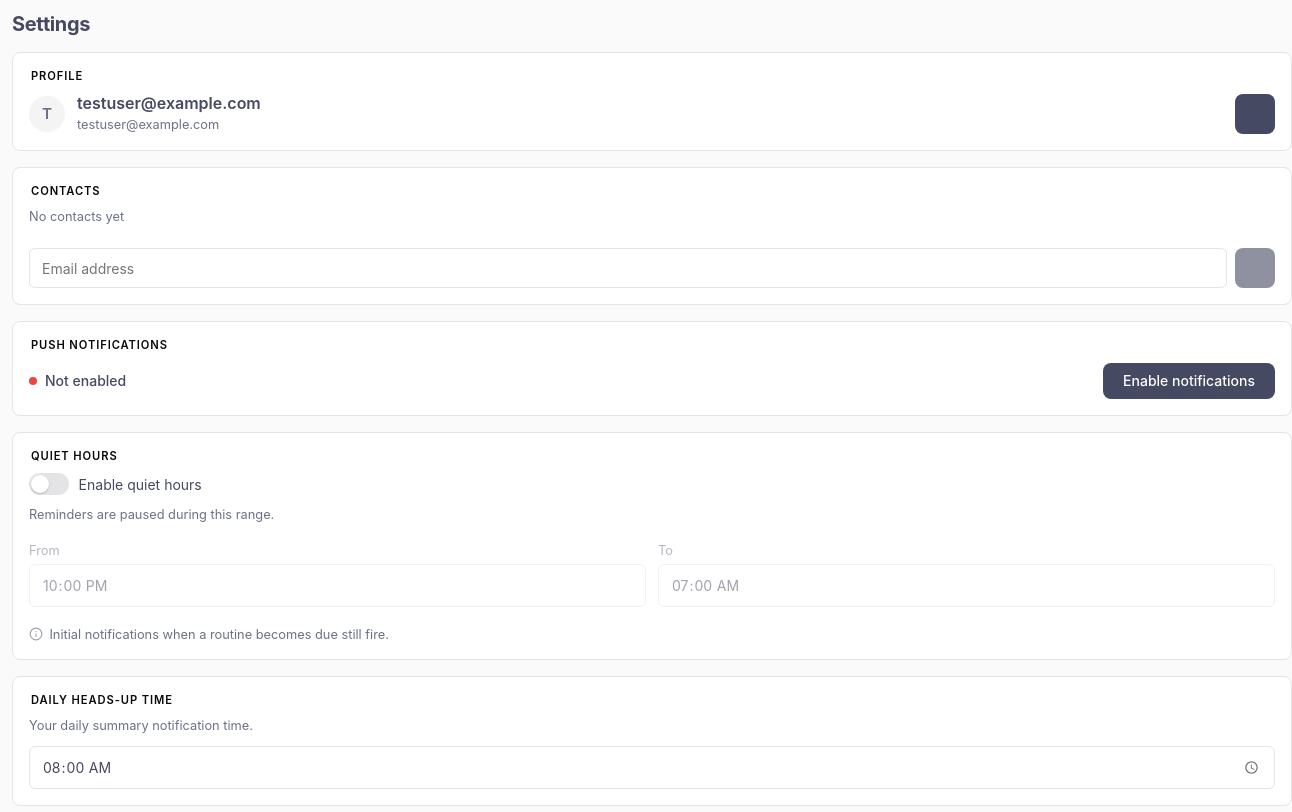
SettingsPage › adds contact error falls back to generic message when detail is missing
The image size is (1292, 812).
Expected: the text "Contacts" is shown, top-left (31, 184), bottom-right (100, 198)
Type "bob@example.com" into the field with test id "add-contact-email" at x=628, y=268, box top-left (29, 248), bottom-right (1227, 288)
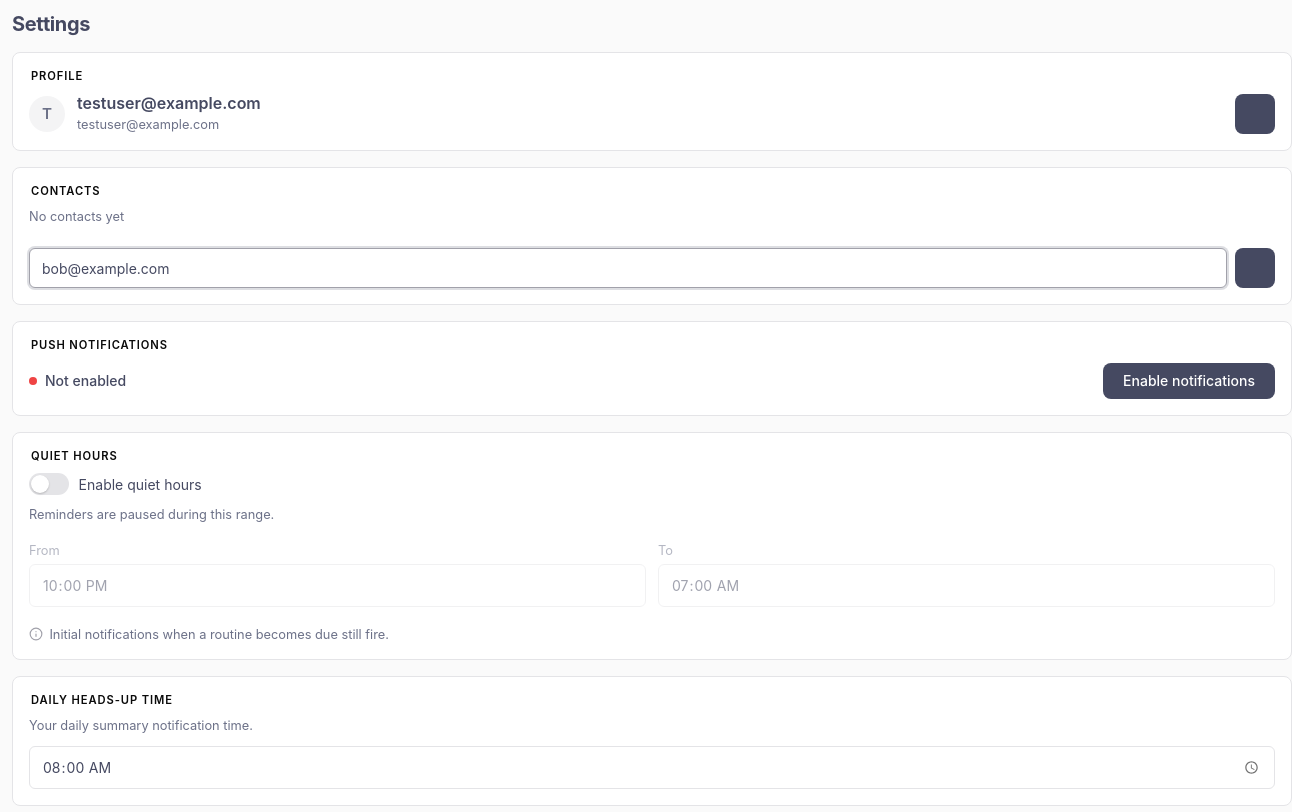
Click the button with test id "add-contact-submit" at x=1255, y=268, box top-left (1235, 248), bottom-right (1275, 288)
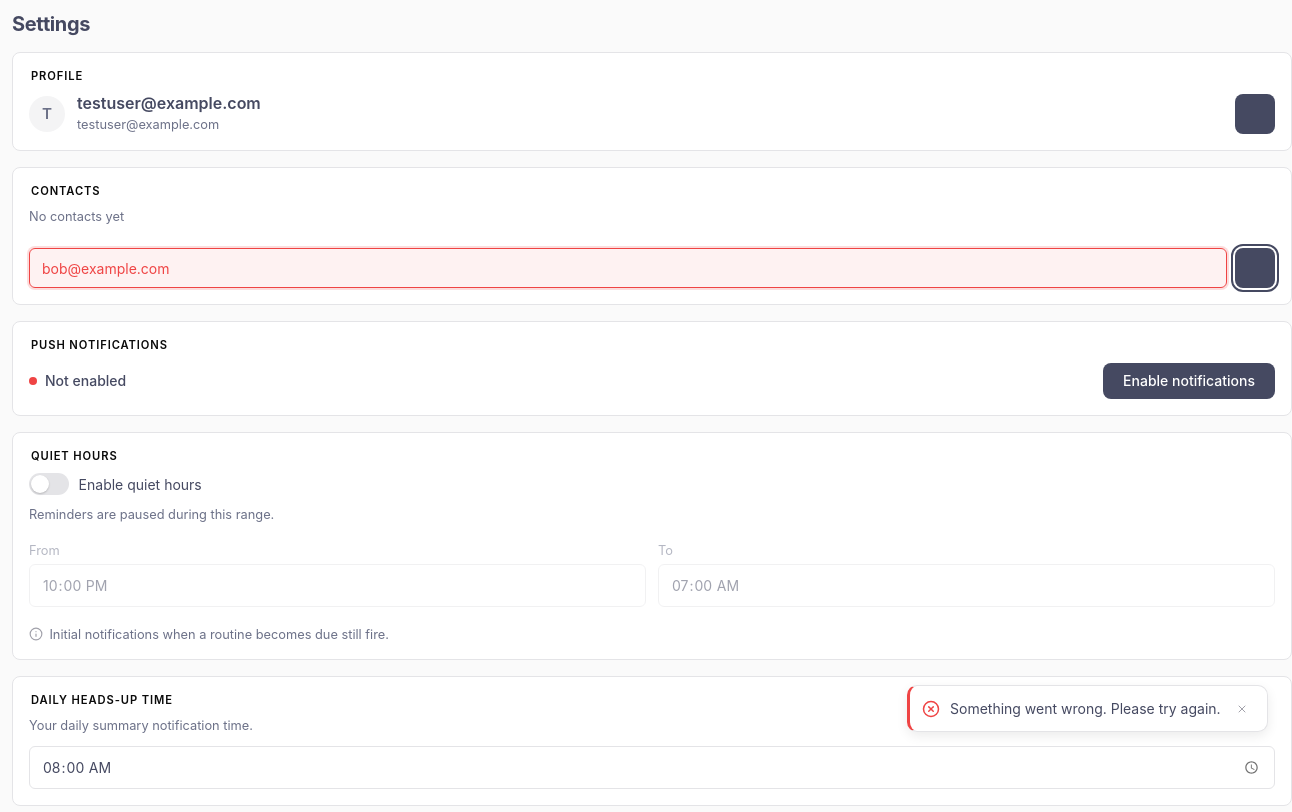
Result: the text "Something went wrong. Please try again." is shown at top-left (950, 700), bottom-right (1221, 718)
